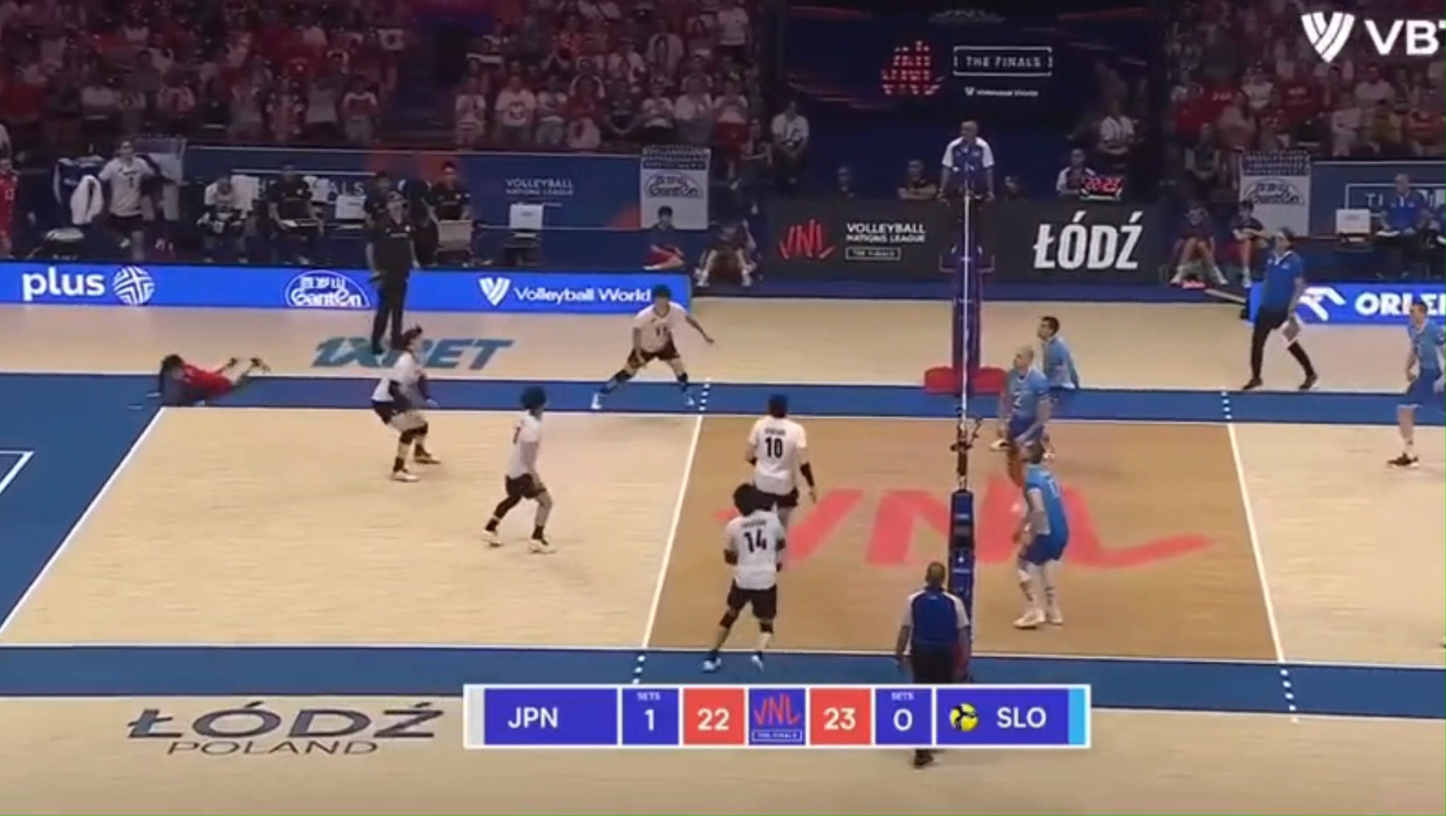player: (1013, 442, 1070, 629), (1389, 303, 1445, 467), (1000, 346, 1052, 484), (1037, 315, 1080, 413), (1044, 432, 1054, 458)
player 1: (703, 483, 786, 671), (591, 285, 712, 409), (484, 386, 553, 552), (371, 326, 437, 481), (746, 394, 815, 527), (154, 353, 269, 406)
referee: (1244, 229, 1318, 391), (894, 561, 969, 683), (938, 119, 995, 275), (366, 190, 418, 353)
